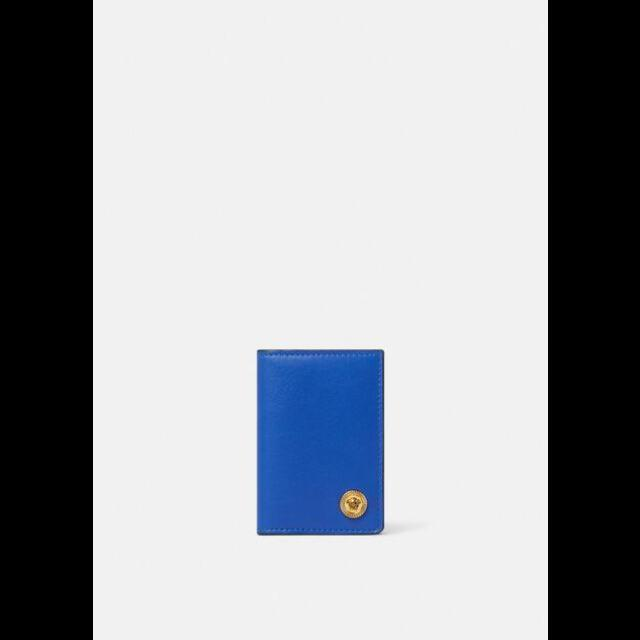wallet: (255, 348, 382, 538)
